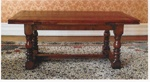obstacle: (8, 11, 139, 68)
